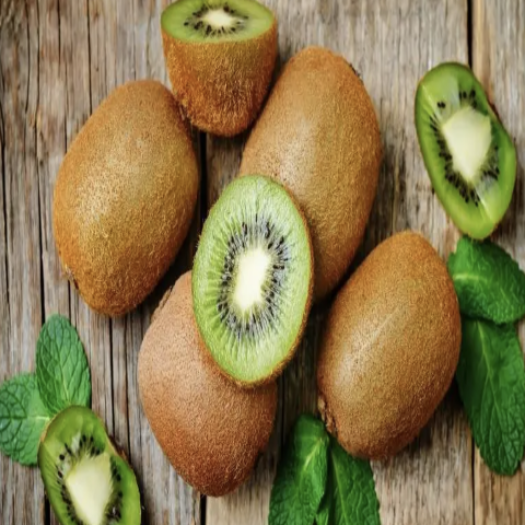kiwi: (225, 28, 385, 310), (43, 80, 219, 326), (123, 236, 285, 500), (316, 218, 476, 481)
